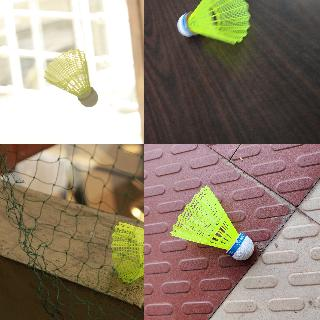shuttlecock: (170, 184, 252, 260), (178, 0, 251, 46), (44, 49, 98, 107), (111, 221, 143, 283)
